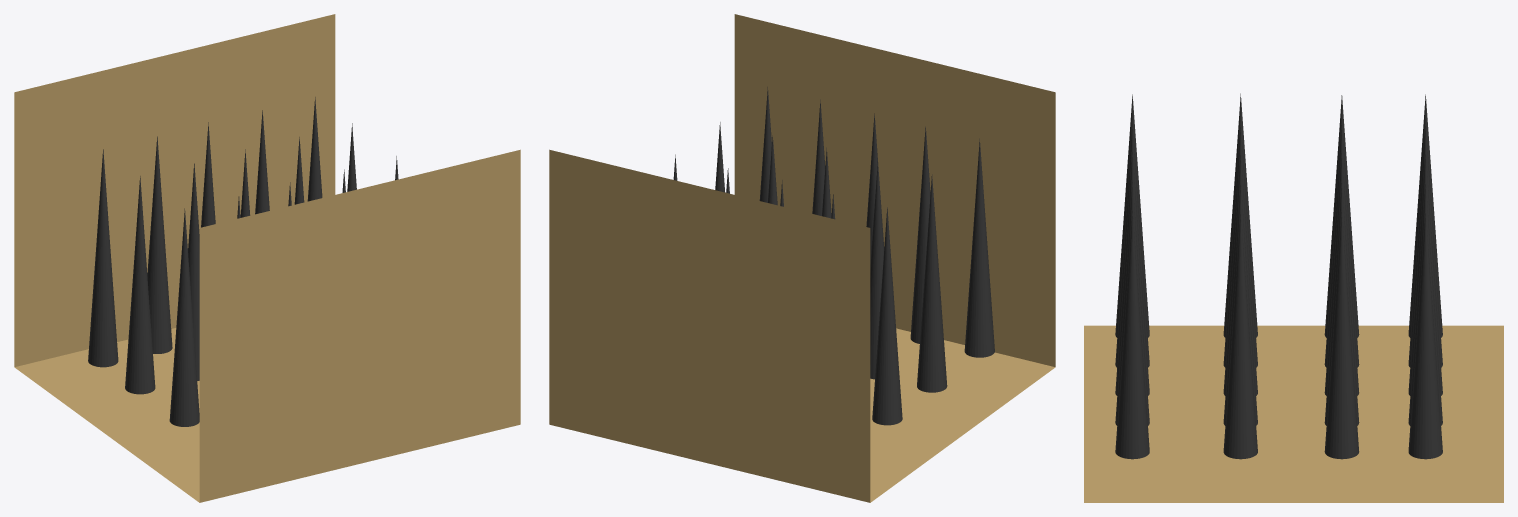
File: Spike_Floor_Updated.fbx
3 views of the same model, side by side, from view 1: azimuth 30°, elevation 25°; view 2: azimuth 150°, elevation 25°; view 3: azimuth 270°, elevation 25° (orthographic). The views are drawn at different scales.
Parts seen in each view (by area): view 1: Plane, Cone.009, Cone.014, Cone.019, Cone.018, Cone.013, Cone.015, Cone.017, Cone.016; view 2: Plane, Cone, Cone.014, Cone.009, Cone.001, Cone.008, Cone.003, Cone.004, Cone.002; view 3: Plane, Cone.004, Cone.015, Cone.005, Cone.010, Cone.002, Cone.009, Cone.007, Cone.019, Cone.017, Cone.012, Cone.014 (+9 smaller).
Part boxes in pixels (x1,y1,x2,y2): Plane: [14, 14, 520, 502]; Cone.009: [169, 208, 199, 426]; Cone.014: [125, 176, 155, 394]; Cone.019: [88, 149, 118, 367]; Cone.018: [147, 136, 172, 353]; Cone.013: [188, 163, 199, 380]; Cone.015: [307, 97, 322, 201]; Cone.017: [201, 122, 215, 227]; Cone.016: [255, 110, 269, 214]; Plane: [549, 14, 1055, 502]; Cone: [964, 138, 994, 357]; Cone.014: [872, 207, 902, 425]; Cone.009: [917, 174, 947, 392]; Cone.001: [910, 126, 930, 343]; Cone.008: [870, 161, 884, 379]; Cone.003: [812, 99, 825, 215]; Cone.004: [759, 87, 771, 202]; Cone.002: [866, 113, 877, 264]; Plane: [1084, 325, 1503, 502]; Cone.004: [1115, 211, 1149, 459]; Cone.015: [1408, 211, 1442, 459]; Cone.005: [1223, 211, 1257, 459]; Cone.010: [1324, 212, 1359, 459]; Cone.002: [1115, 152, 1149, 395]; Cone.009: [1223, 93, 1257, 337]; Cone.007: [1223, 152, 1257, 395]; Cone.019: [1408, 94, 1442, 337]; Cone.017: [1408, 153, 1442, 395]; Cone.012: [1324, 153, 1359, 395]; Cone.014: [1324, 95, 1359, 337].
Bounding box in the file's own units: 257 × 210 × 257.
